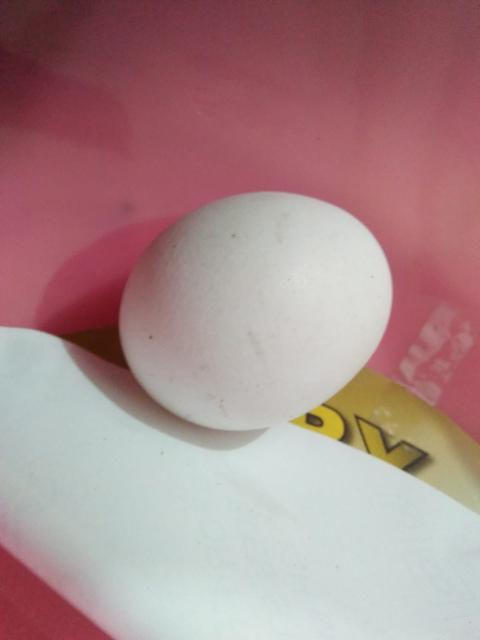Sano: (116, 189, 394, 432)
